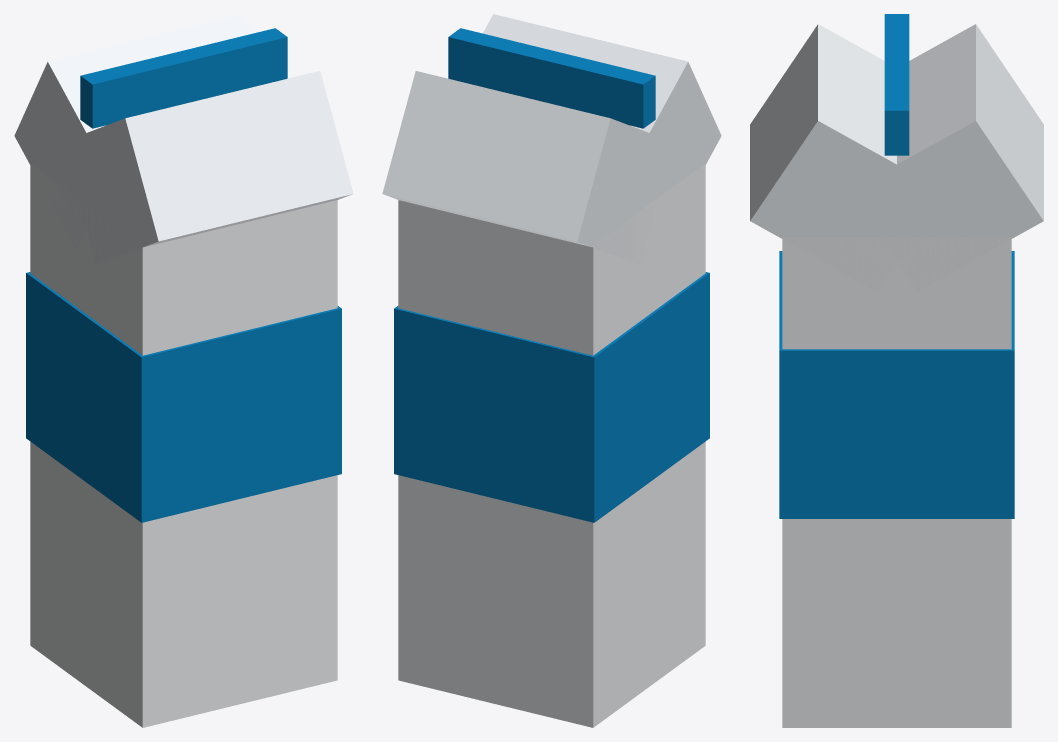
The model's file is milk-carton.glb.
The picture shows the model from 3 angles, left to right: view 1: azimuth 30°, elevation 25°; view 2: azimuth 150°, elevation 25°; view 3: azimuth 270°, elevation 25°; orthographic projection.
Parts seen in each view (by area): view 1: Carton_Body, Milk_Stripe, Gable_Roof_Front, Gable_Roof_Back, Gable_Ridge; view 2: Carton_Body, Milk_Stripe, Gable_Roof_Back, Gable_Roof_Front, Gable_Ridge; view 3: Carton_Body, Milk_Stripe, Gable_Roof_Front, Gable_Roof_Back, Gable_Ridge.
Part boxes in pixels (left/top/right/bottom): Carton_Body: left=30, top=163, right=337, bottom=727; Milk_Stripe: left=26, top=272, right=341, bottom=522; Gable_Roof_Front: left=64, top=71, right=353, bottom=264; Gable_Roof_Back: left=14, top=14, right=252, bottom=249; Gable_Ridge: left=80, top=28, right=287, bottom=128; Carton_Body: left=398, top=163, right=705, bottom=727; Milk_Stripe: left=394, top=272, right=709, bottom=522; Gable_Roof_Back: left=382, top=71, right=672, bottom=264; Gable_Roof_Front: left=483, top=14, right=721, bottom=216; Gable_Ridge: left=448, top=28, right=655, bottom=128; Carton_Body: left=782, top=237, right=1011, bottom=727; Milk_Stripe: left=779, top=251, right=1014, bottom=518; Gable_Roof_Front: left=750, top=24, right=944, bottom=291; Gable_Roof_Back: left=850, top=24, right=1043, bottom=290; Gable_Ridge: left=884, top=14, right=909, bottom=155.
Size of the model in its own units: 0.076 by 0.22 by 0.0949.
